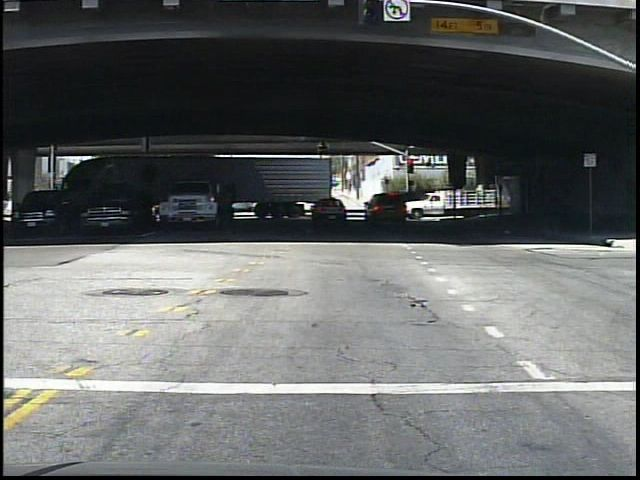car: (153, 173, 223, 228), (6, 182, 63, 237), (84, 180, 140, 231), (365, 194, 409, 224), (308, 194, 345, 228)
striscie pedonali: (10, 244, 635, 458)
